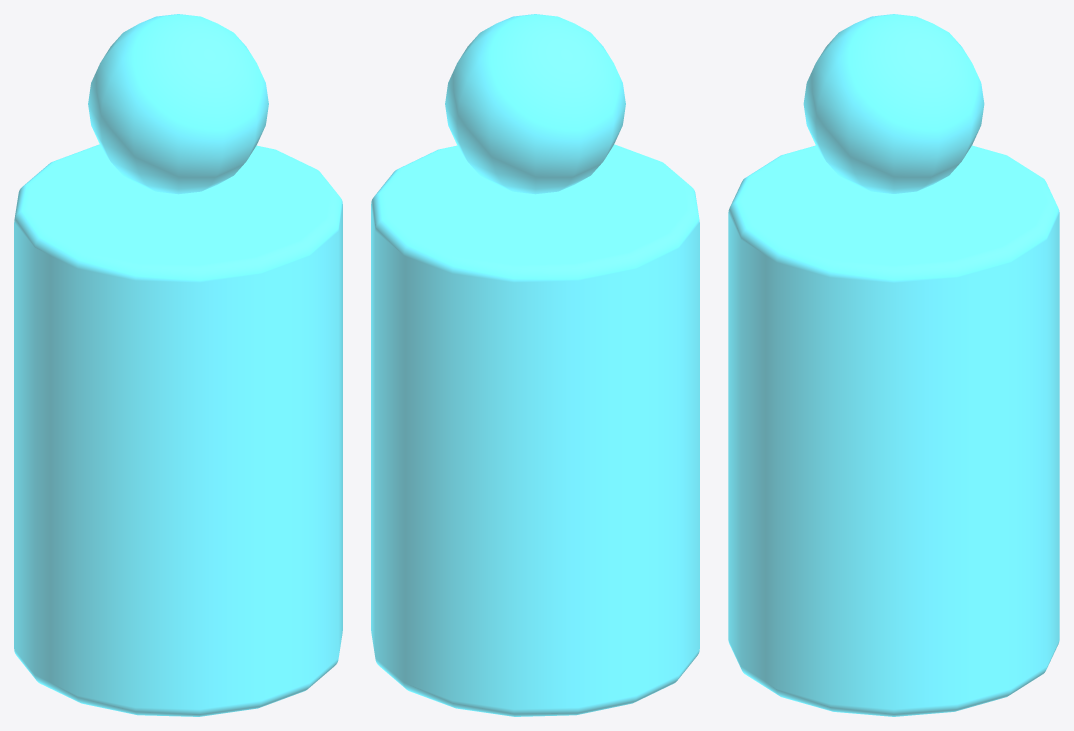
Rendered from charging-station.glb.
The picture shows the model from 3 angles, left to right: view 1: azimuth 30°, elevation 25°; view 2: azimuth 150°, elevation 25°; view 3: azimuth 270°, elevation 25°; orthographic projection.
Parts seen in each view (by area): view 1: Cylinder, Sphere; view 2: Cylinder, Sphere; view 3: Cylinder, Sphere.
Part boxes in pixels (<box>): Cylinder: <box>14,144,342,716</box>; Sphere: <box>88,14,268,194</box>; Cylinder: <box>371,144,699,716</box>; Sphere: <box>445,14,625,194</box>; Cylinder: <box>728,145,1059,716</box>; Sphere: <box>803,14,984,193</box>.
Size of the model in its own units: 0.9161 by 1.92 by 0.9161.
